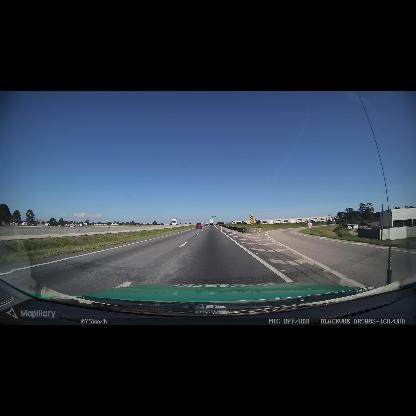O-MP: (250, 215, 254, 225)
R-19: (307, 222, 312, 227), (254, 219, 257, 224)
